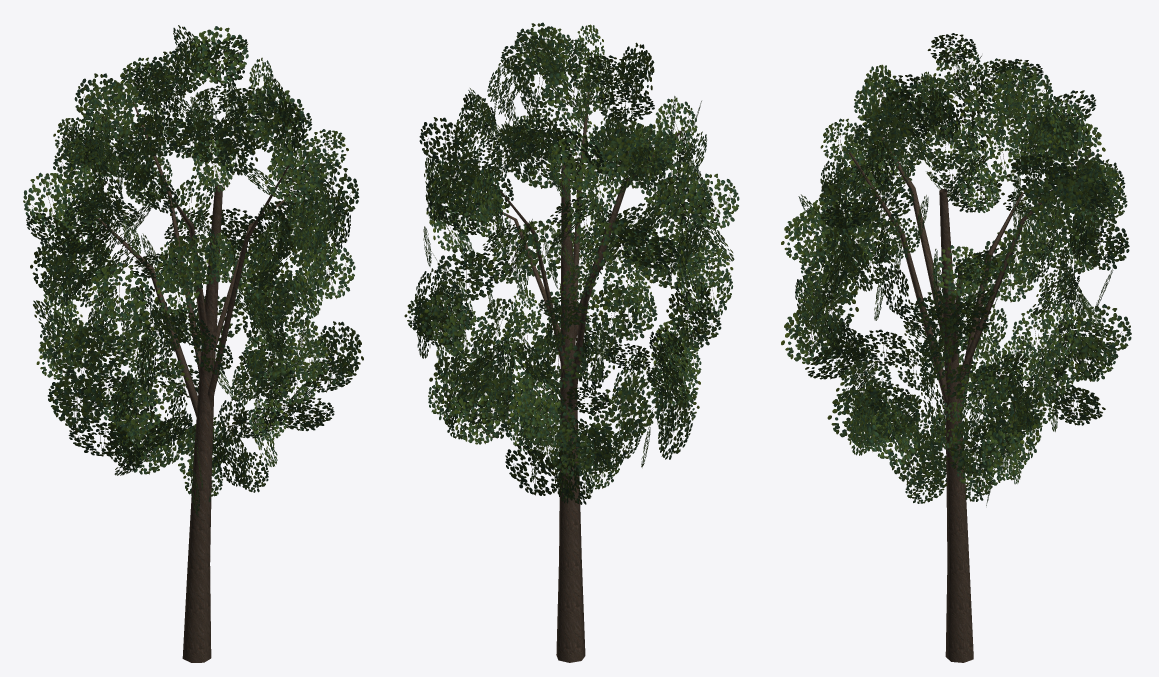
File: tpl_bog_alder_hi0.glb
The picture shows the model from 3 angles, left to right: view 1: azimuth 30°, elevation 25°; view 2: azimuth 150°, elevation 25°; view 3: azimuth 270°, elevation 25°; orthographic projection.
Parts seen in each view (by area): view 1: tpl_bog_alder_hi0; view 2: tpl_bog_alder_hi0; view 3: tpl_bog_alder_hi0.
Boxes of the visible parts, x1,y1,x2,y2 form: tpl_bog_alder_hi0: (23,25,363,662); tpl_bog_alder_hi0: (404,22,739,662); tpl_bog_alder_hi0: (781,33,1131,662).
Bounding box in the file's own units: 7.99 × 15.8 × 8.46.
Materials: 2 (2 with a texture image).
